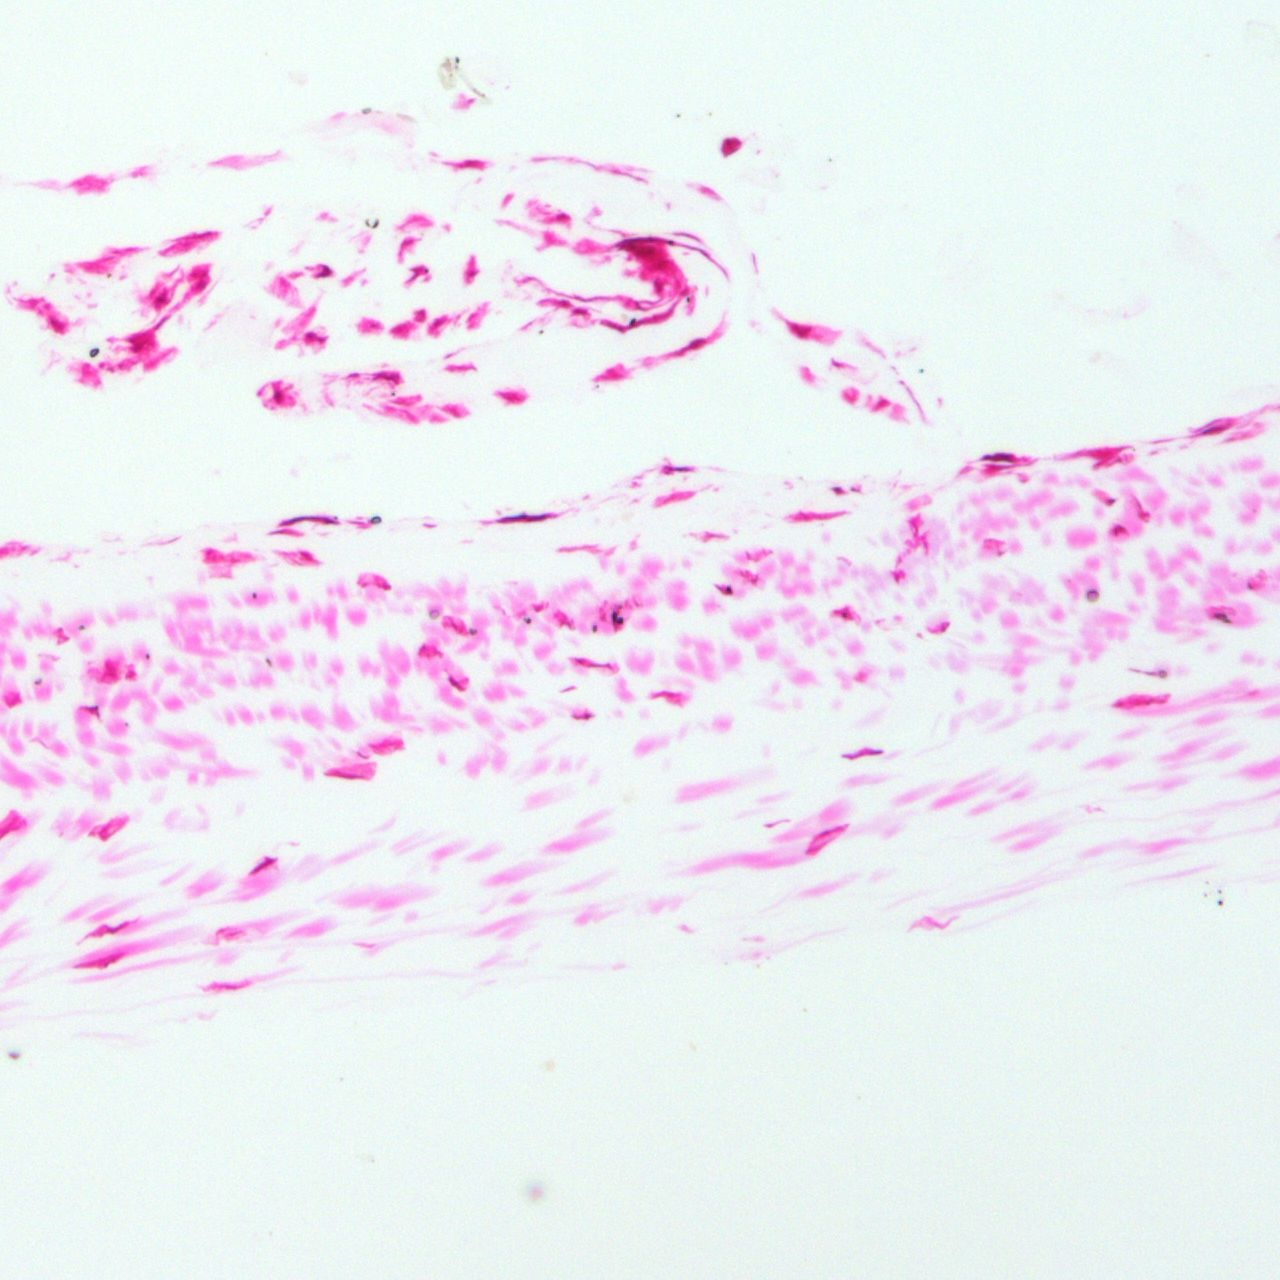dust: (1083, 590, 1101, 601), (1212, 613, 1230, 622), (88, 347, 98, 358), (369, 515, 382, 523), (372, 218, 380, 230), (265, 658, 273, 669), (9, 1051, 21, 1060), (627, 318, 636, 327), (361, 105, 372, 113), (1158, 670, 1169, 678), (1145, 670, 1157, 676), (667, 239, 675, 247), (615, 617, 625, 624), (468, 628, 477, 635), (611, 612, 617, 622), (537, 328, 545, 335), (33, 678, 41, 685), (591, 624, 597, 633), (726, 585, 733, 592), (77, 624, 86, 629), (1128, 668, 1141, 672), (918, 367, 924, 374), (424, 267, 430, 274), (1247, 581, 1253, 588), (524, 617, 531, 622), (251, 592, 257, 599), (445, 72, 452, 77), (472, 86, 477, 94), (365, 218, 369, 226), (455, 55, 459, 63), (1217, 900, 1223, 906), (105, 273, 113, 278), (840, 612, 847, 617), (144, 653, 149, 660), (452, 64, 459, 69), (675, 113, 680, 118), (685, 297, 689, 302), (828, 156, 832, 161), (333, 515, 338, 519), (124, 722, 129, 727), (481, 93, 485, 97), (390, 392, 396, 395), (708, 111, 712, 116), (1218, 888, 1221, 893), (1203, 893, 1207, 897), (1205, 881, 1210, 885)
nucleus-FG: (159, 224, 213, 254), (75, 949, 125, 976), (89, 914, 130, 942), (905, 516, 930, 557), (1112, 694, 1167, 710), (1081, 447, 1124, 467), (633, 309, 673, 329), (275, 513, 341, 525), (840, 743, 881, 761), (248, 852, 278, 874), (678, 335, 708, 356), (574, 656, 614, 672), (394, 234, 415, 263), (784, 319, 812, 340), (552, 607, 576, 632), (813, 823, 847, 838), (324, 769, 367, 781), (98, 660, 120, 683), (789, 511, 842, 520), (1201, 421, 1228, 438), (200, 549, 227, 564), (599, 316, 626, 332), (442, 617, 467, 633), (720, 137, 741, 156), (372, 372, 402, 384), (651, 690, 683, 702), (265, 527, 302, 537), (425, 315, 444, 334), (47, 315, 66, 334), (209, 981, 246, 990), (445, 675, 465, 693), (805, 840, 828, 856), (599, 368, 625, 381), (154, 312, 171, 331), (980, 452, 1014, 462), (983, 464, 1017, 474), (302, 332, 327, 345), (417, 644, 440, 658), (125, 329, 148, 343), (390, 321, 408, 339), (547, 297, 571, 309), (871, 397, 892, 411), (128, 340, 147, 355), (651, 278, 666, 297), (662, 464, 689, 475), (501, 515, 549, 520), (498, 392, 524, 402), (622, 236, 659, 243), (463, 267, 478, 282), (299, 551, 318, 563), (316, 263, 332, 277), (84, 704, 98, 719), (98, 828, 113, 842), (188, 270, 209, 279), (406, 267, 418, 282), (154, 293, 170, 304), (124, 670, 138, 682), (271, 390, 282, 404), (572, 712, 591, 720), (379, 578, 392, 590), (641, 246, 655, 257), (554, 212, 568, 223), (1112, 525, 1126, 536), (415, 309, 425, 322), (462, 159, 479, 166), (196, 281, 209, 290), (831, 485, 842, 495), (940, 621, 949, 632), (571, 308, 585, 315), (1137, 512, 1149, 520), (625, 243, 636, 250), (533, 604, 543, 612), (1107, 498, 1116, 505)
